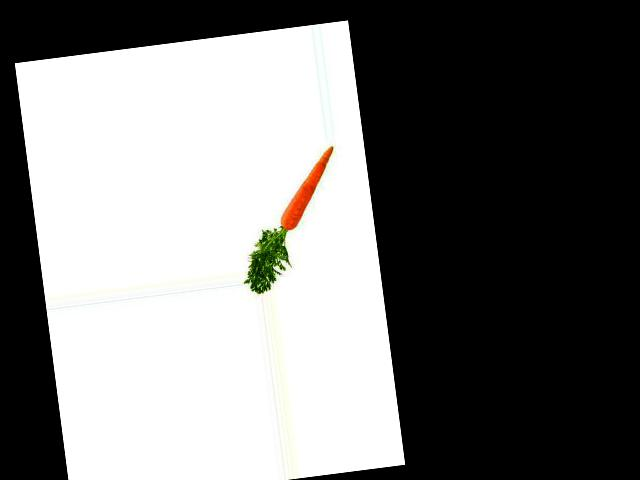carrot: (269, 142, 344, 236)
